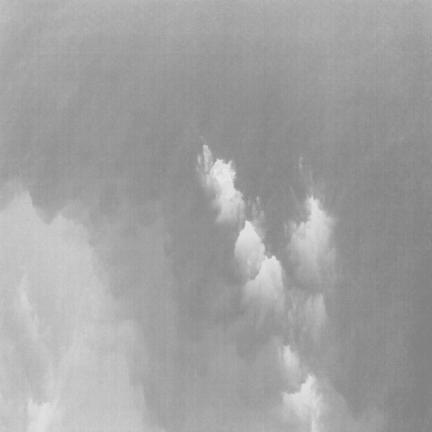flukeprints: (290, 197, 333, 274), (207, 159, 243, 222), (284, 375, 323, 421), (245, 256, 282, 304), (235, 221, 264, 271)
